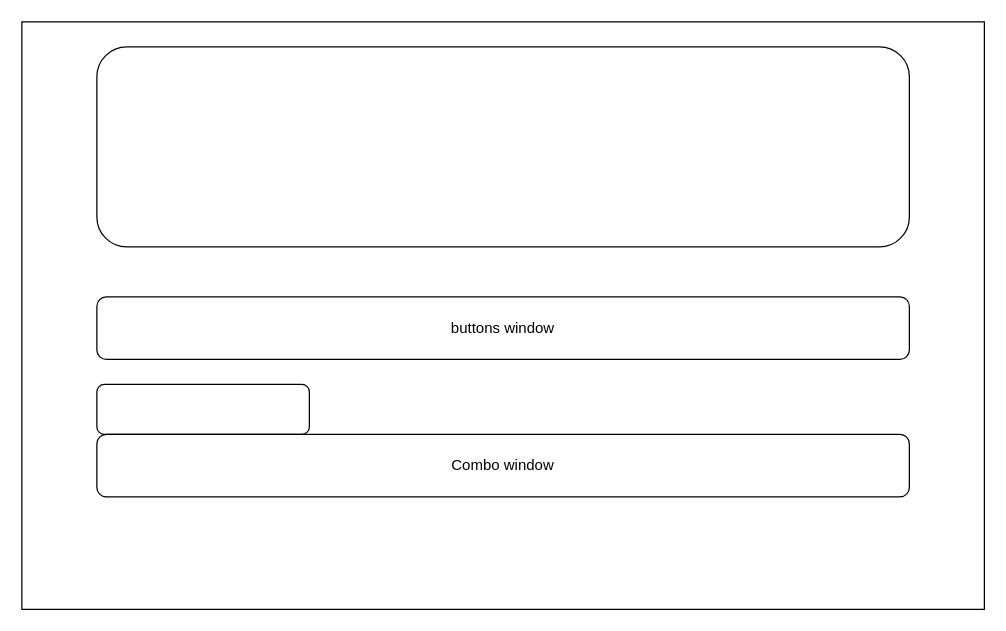
The diagram is 1006 pixels wide and 631 high, and some of its shapes have lost their labels. The shapes that lost their labels are listed below. From the top down, each one's centre as x and y in pixels, then its label:
the point at 502,146: CHARACTER BANNER
the point at 202,408: Combo Title
